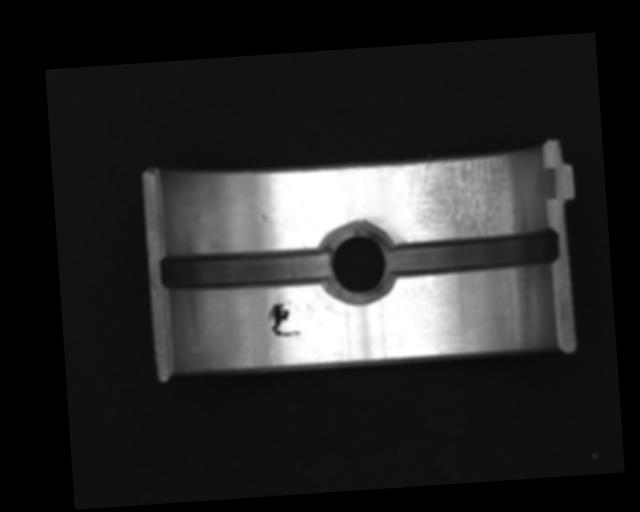blot: (266, 298, 303, 340)
bruise: (257, 213, 267, 222)
gap: (156, 241, 333, 295), (386, 229, 562, 276)
hole: (318, 219, 401, 306)
nick: (421, 274, 437, 294)
scratch: (397, 153, 526, 243)
